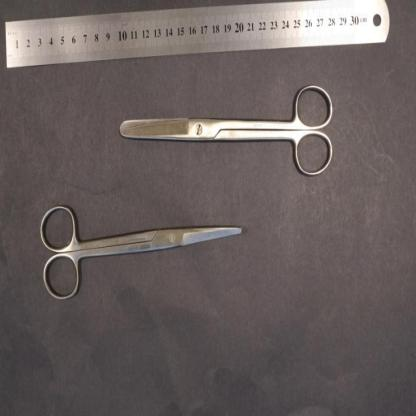Curved Mayo Scissors: (39, 203, 242, 302)
Dressing Scissors: (118, 81, 335, 179)
